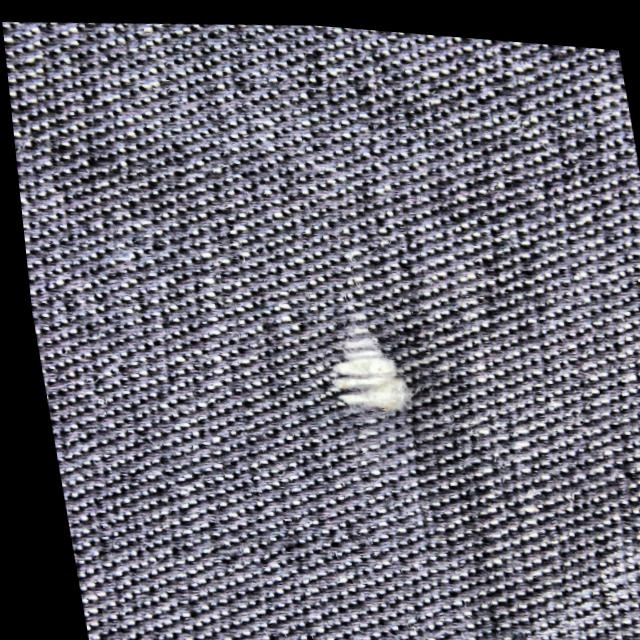Hole: (275, 286, 460, 453), (330, 319, 409, 414)
